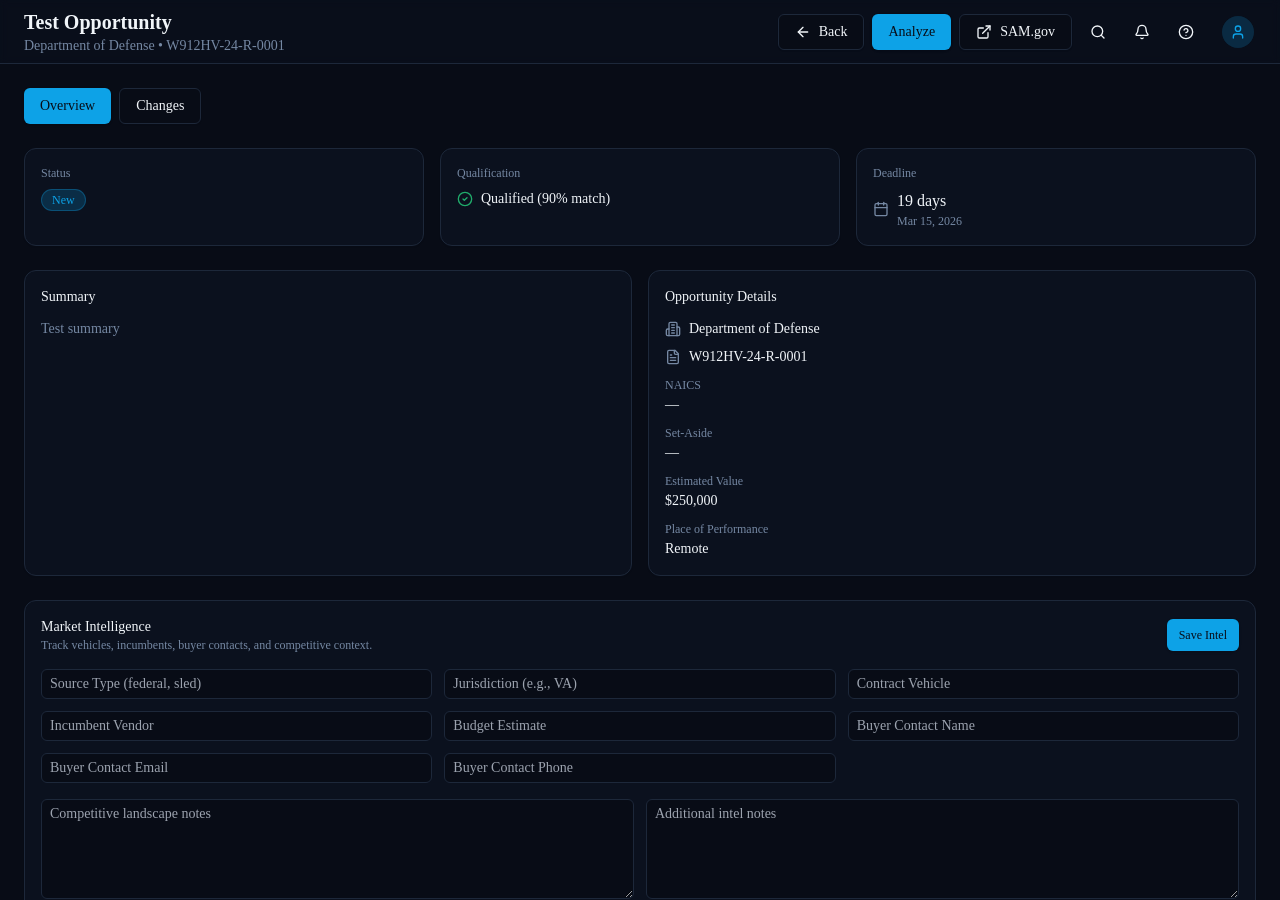
Test case: OpportunityDetailPage › renders opportunity details and snapshot diff
The width and height of the screenshot is (1280, 900).
Expected: the heading "Test Opportunity" is shown, [24, 10, 172, 32]
Expected: the text "Opportunity Details" is shown, [665, 289, 777, 304]
Click the button "Changes": (160, 106) [119, 88, 201, 124]
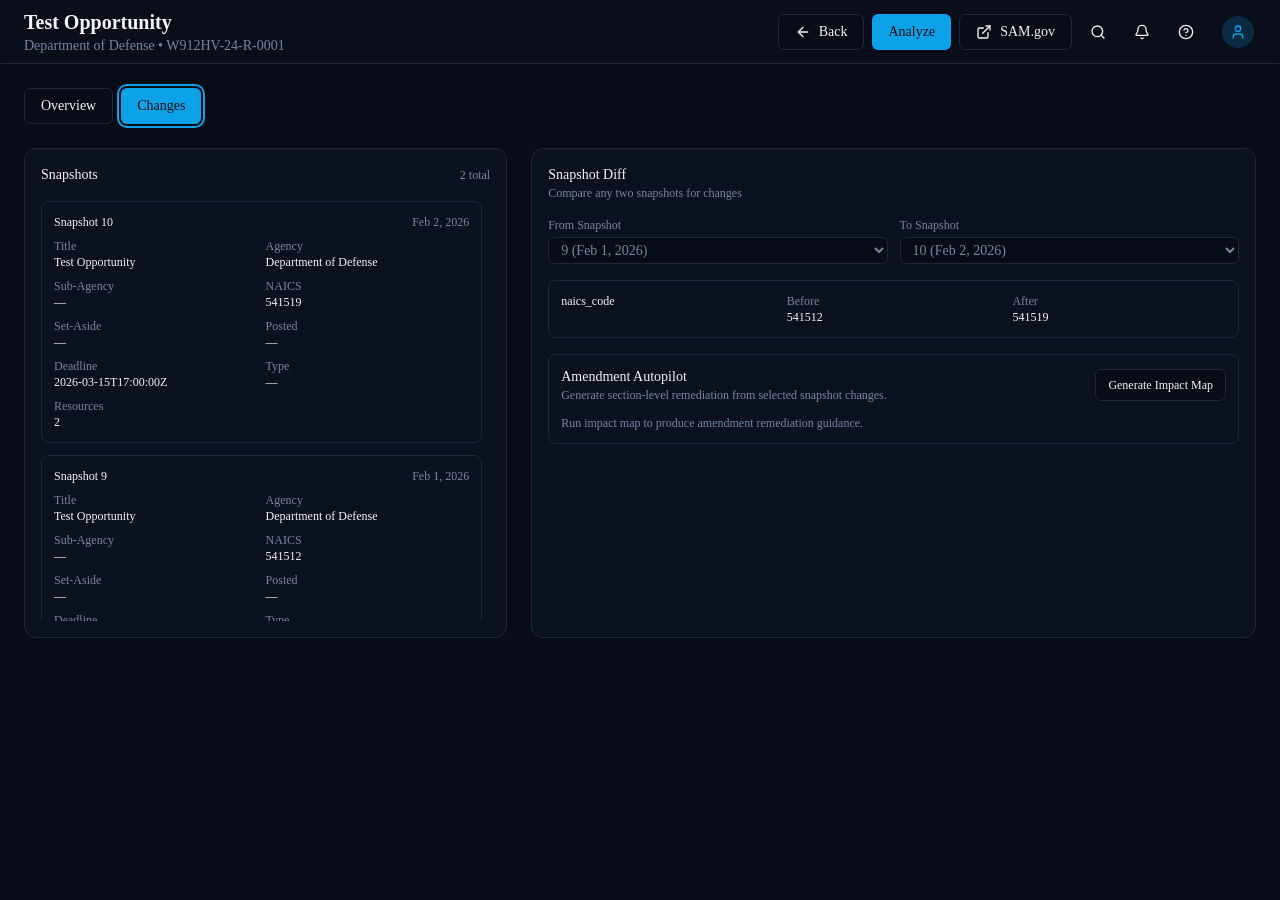
Expected: the text "Snapshot Diff" is shown, [548, 167, 626, 182]
Expected: the text "naics_code" is shown, [561, 294, 614, 308]
Click the button "Generate Impact Map": (1161, 385) [1095, 369, 1226, 401]
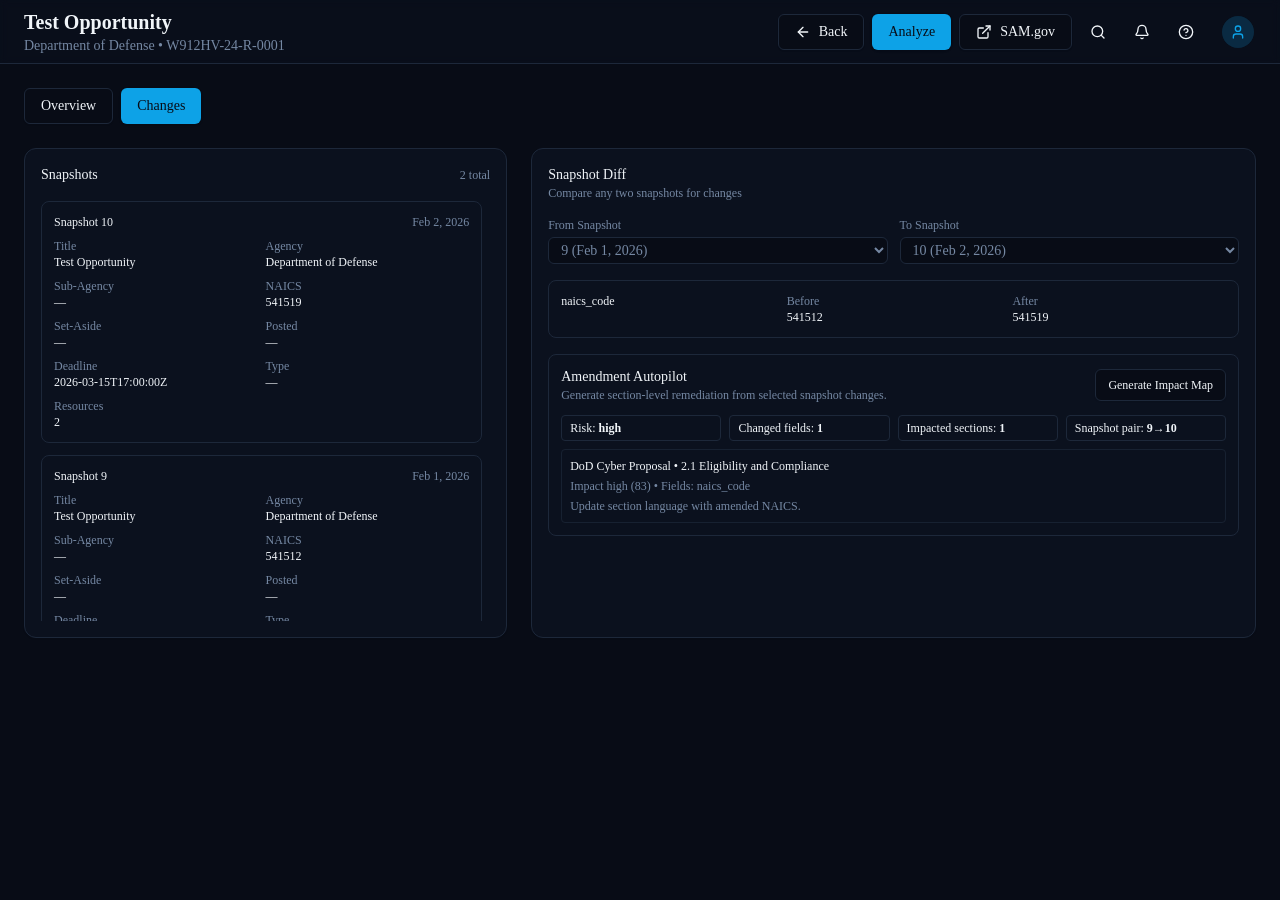
Expected: the text "Amendment Autopilot" is shown, [561, 369, 687, 384]
Expected: the text "DoD Cyber Proposal • 2.1 Eligibility and Compliance" is shown, [570, 459, 829, 473]
Expected: the text "Risk: high" is shown, [561, 415, 721, 441]
